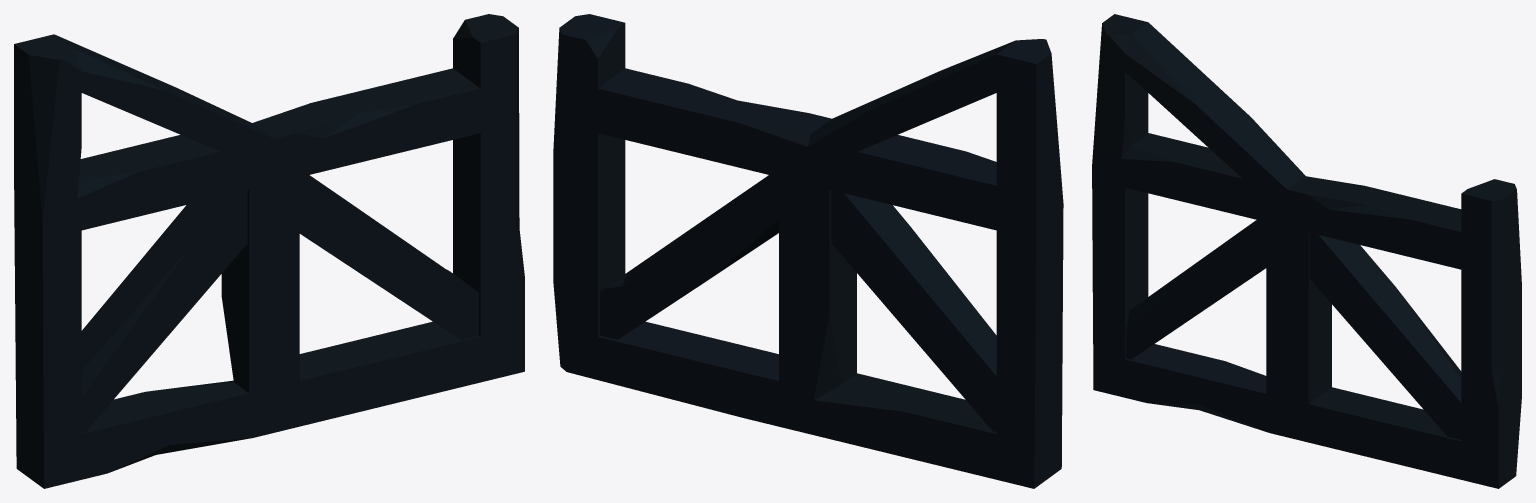
The model's file is Gate_Door_Left.001_4.fbx.
The picture shows the model from 3 angles, left to right: view 1: azimuth 30°, elevation 25°; view 2: azimuth 150°, elevation 25°; view 3: azimuth 330°, elevation 25°; orthographic projection. The views are drawn at different scales.
Visible parts, largest first — view 1: Gate_Door_Left.001_4; view 2: Gate_Door_Left.001_4; view 3: Gate_Door_Left.001_4.
Boxes of the visible parts, <box> form: Gate_Door_Left.001_4: <box>14,14,524,488</box>; Gate_Door_Left.001_4: <box>553,14,1063,488</box>; Gate_Door_Left.001_4: <box>1092,14,1521,488</box>.
Bounding box in the file's own units: 41.79 × 35.14 × 4.13.
